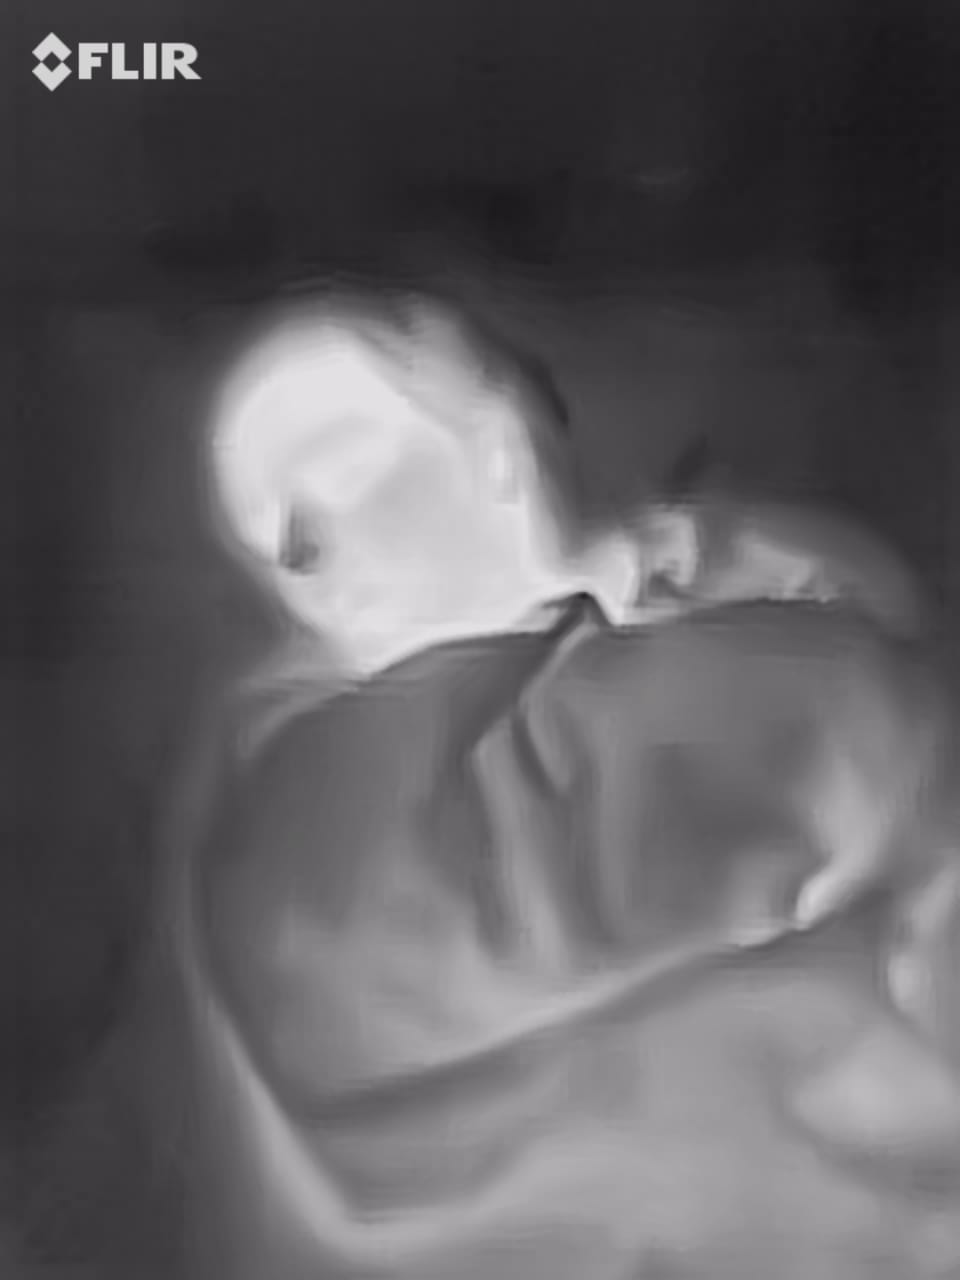head: (171, 272, 636, 681)
